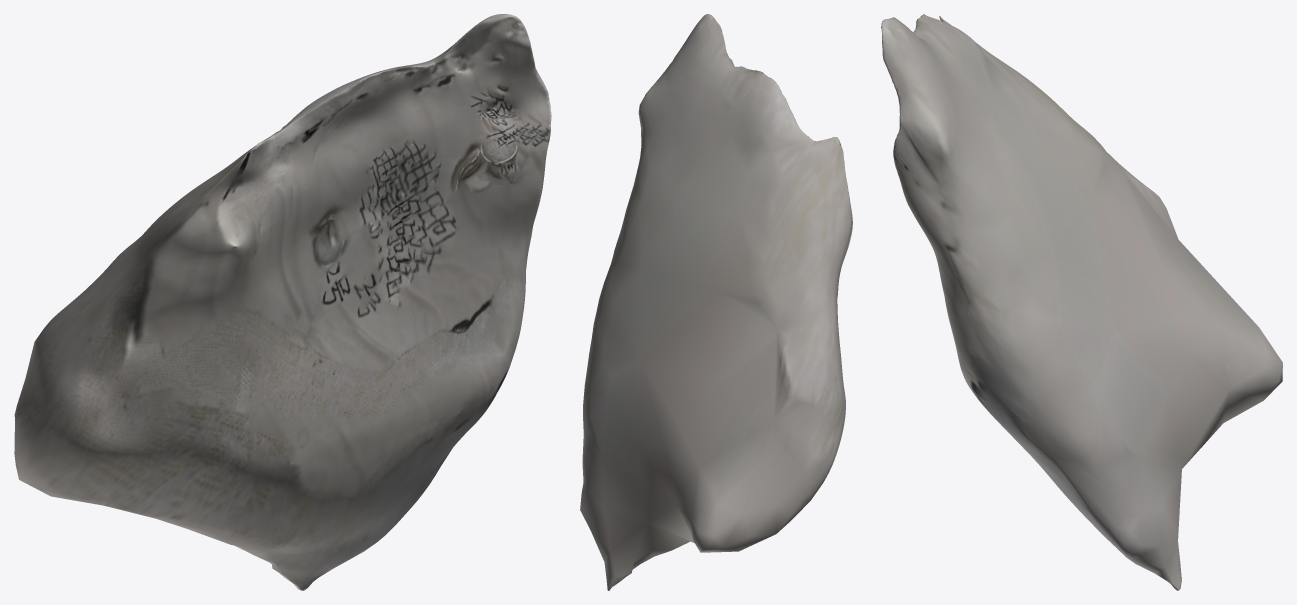
3 views of the same model, side by side, from view 1: azimuth 30°, elevation 25°; view 2: azimuth 150°, elevation 25°; view 3: azimuth 270°, elevation 25° (orthographic). The views are drawn at different scales.
Bounding box in the file's own units: 0.2725 × 0.4459 × 0.2791.
Materials: 1 (1 with a texture image).
